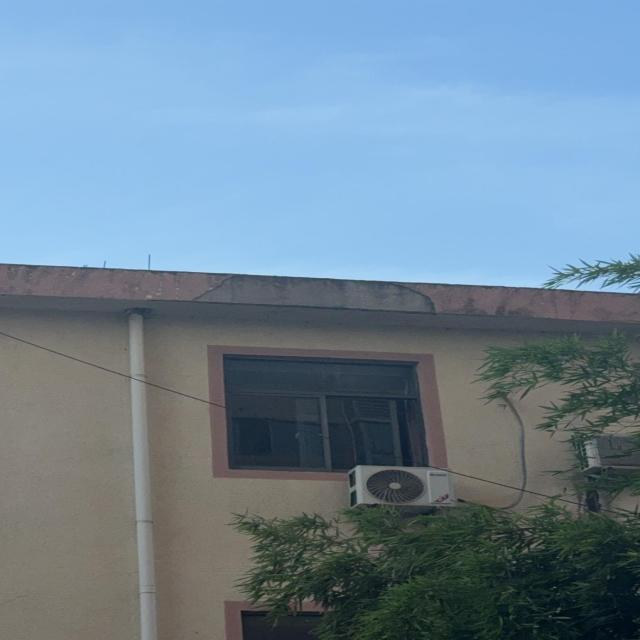spalling: (152, 275, 460, 314)
